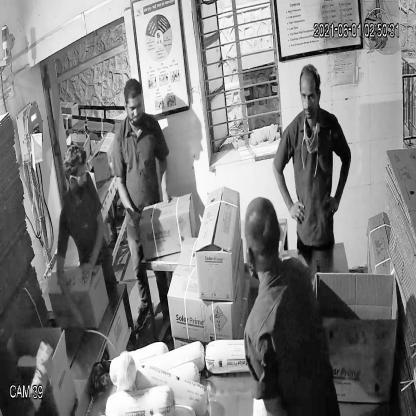goggles: (64, 164, 90, 188)
no_goggles: (297, 82, 324, 109), (119, 94, 146, 118)
